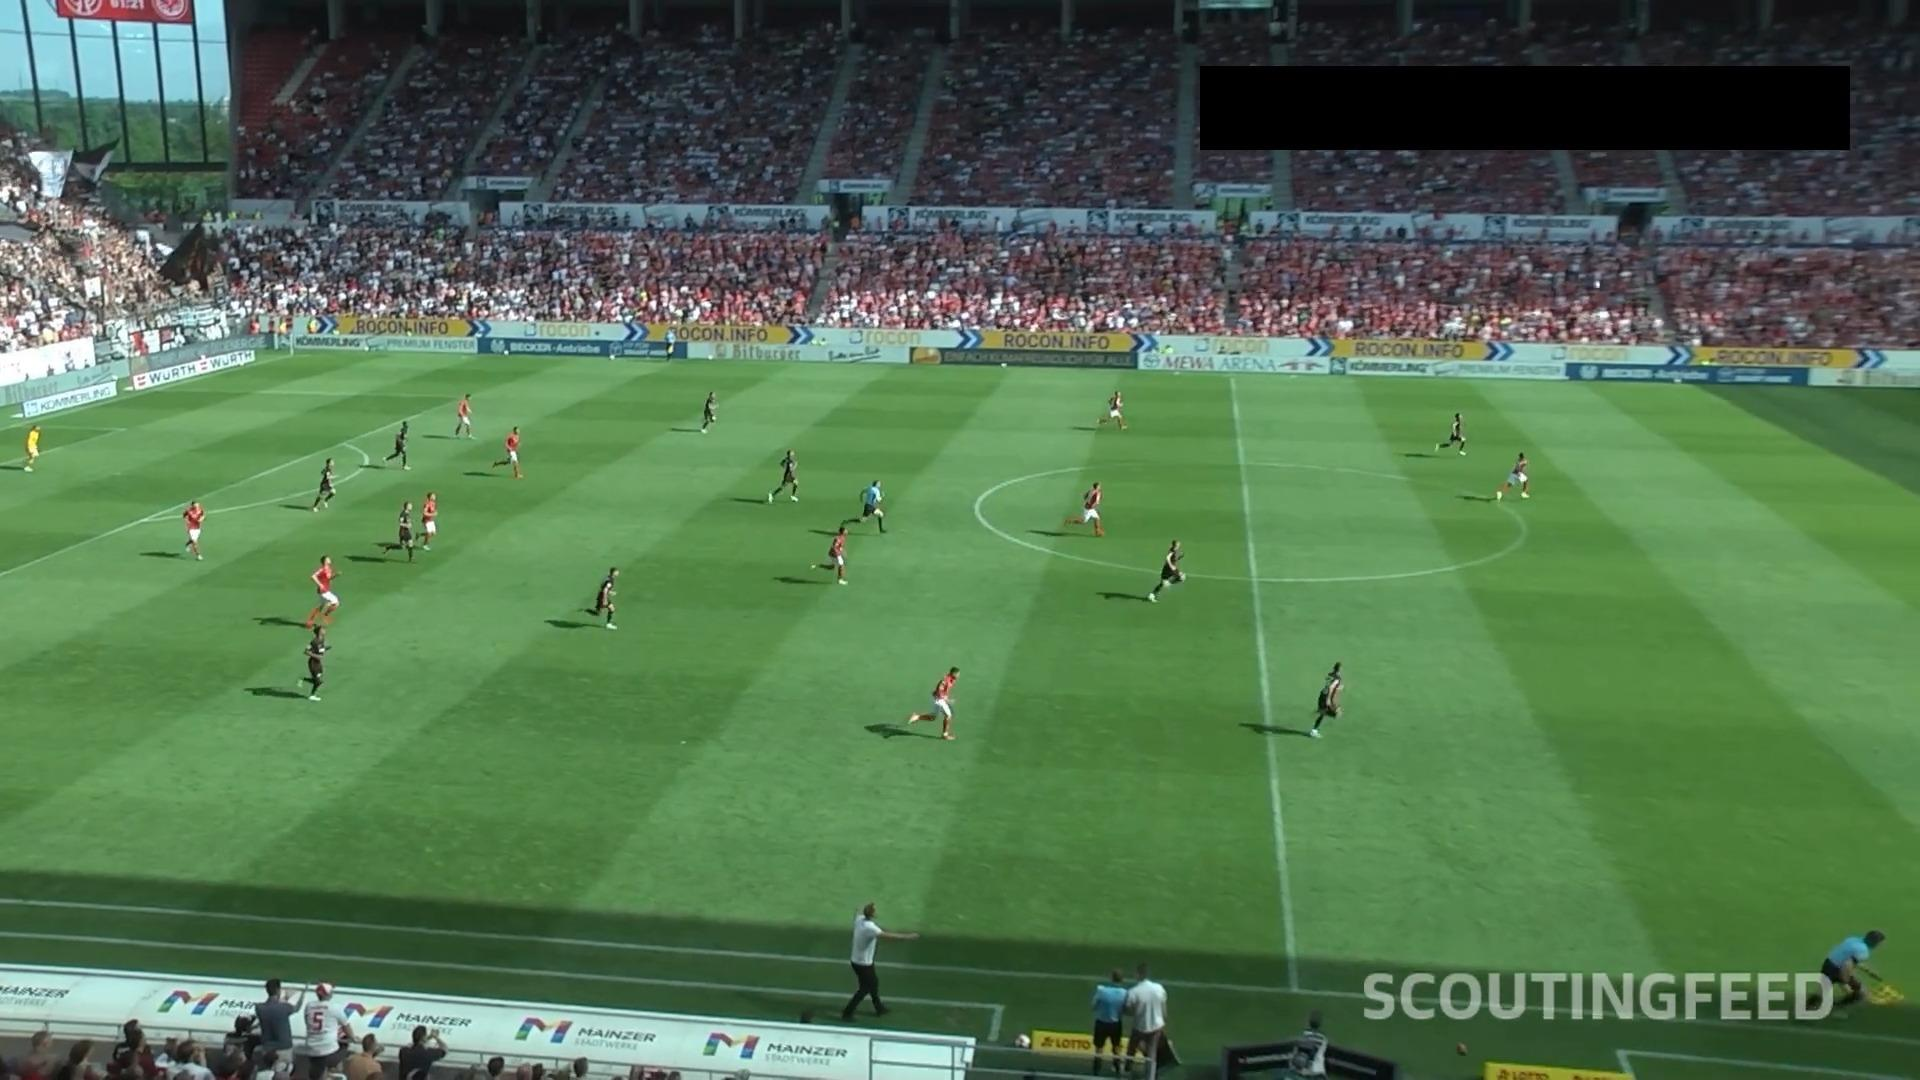ball: (1592, 280, 1601, 289)
